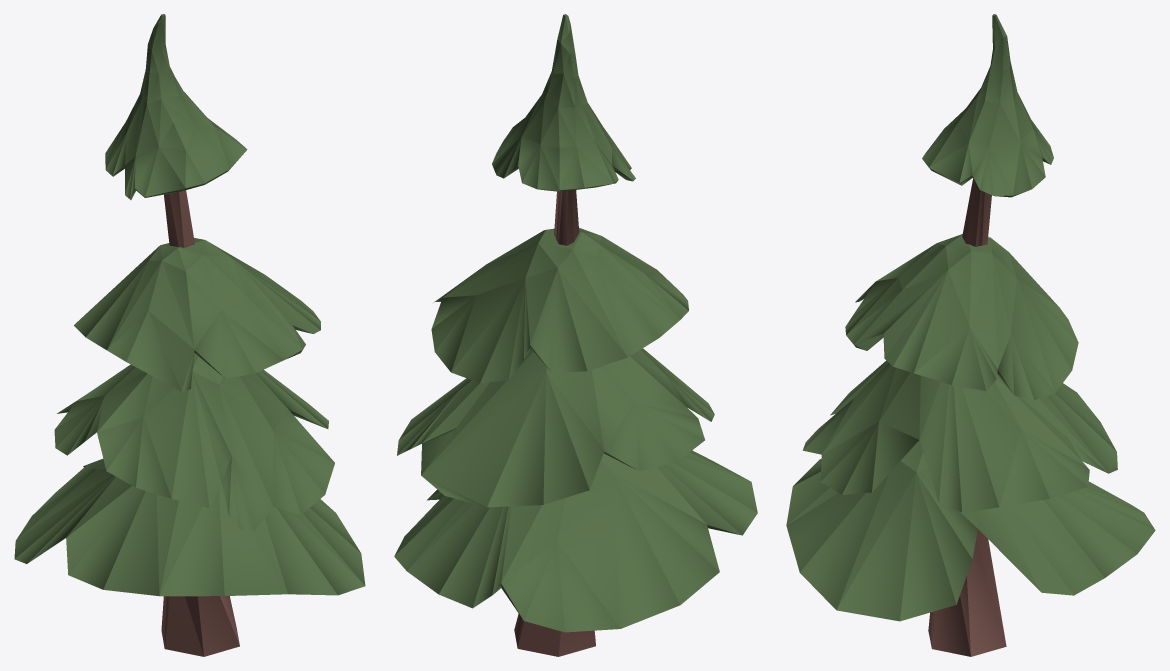
File: PineTree_2_far.glb
3 views of the same model, side by side, from view 1: azimuth 30°, elevation 25°; view 2: azimuth 150°, elevation 25°; view 3: azimuth 270°, elevation 25° (orthographic). The views are drawn at different scales.
Parts seen in each view (by area): view 1: PineTree_2_Far; view 2: PineTree_2_Far; view 3: PineTree_2_Far.
Part boxes in pixels (<box>): PineTree_2_Far: <box>14,14,365,656</box>; PineTree_2_Far: <box>394,14,757,656</box>; PineTree_2_Far: <box>786,14,1155,656</box>.
Bounding box in the file's own units: 1.79 × 3.56 × 1.95.
